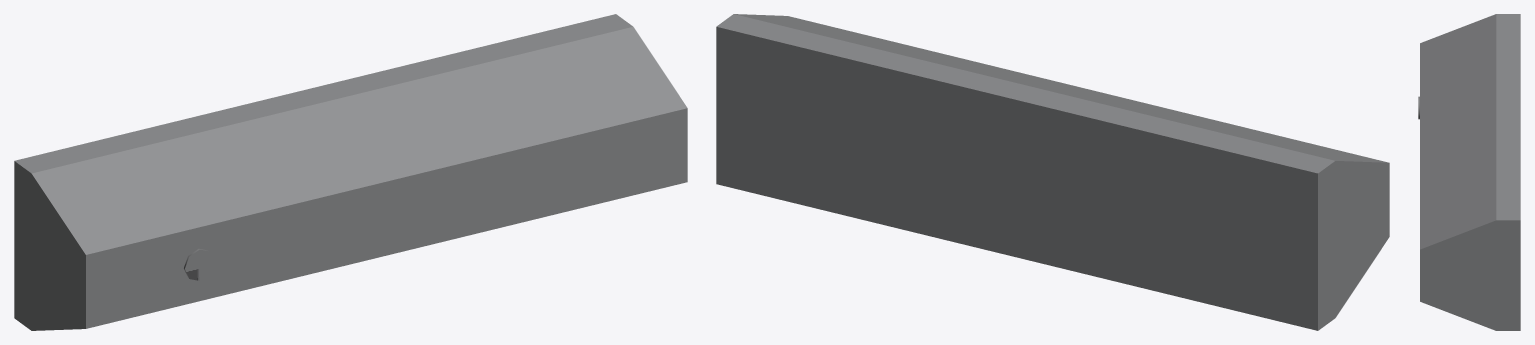
The picture shows the model from 3 angles, left to right: view 1: azimuth 30°, elevation 25°; view 2: azimuth 150°, elevation 25°; view 3: azimuth 270°, elevation 25°; orthographic projection. The views are drawn at different scales.
Size of the model in its own units: 0.8 by 0.2 by 0.1675.
